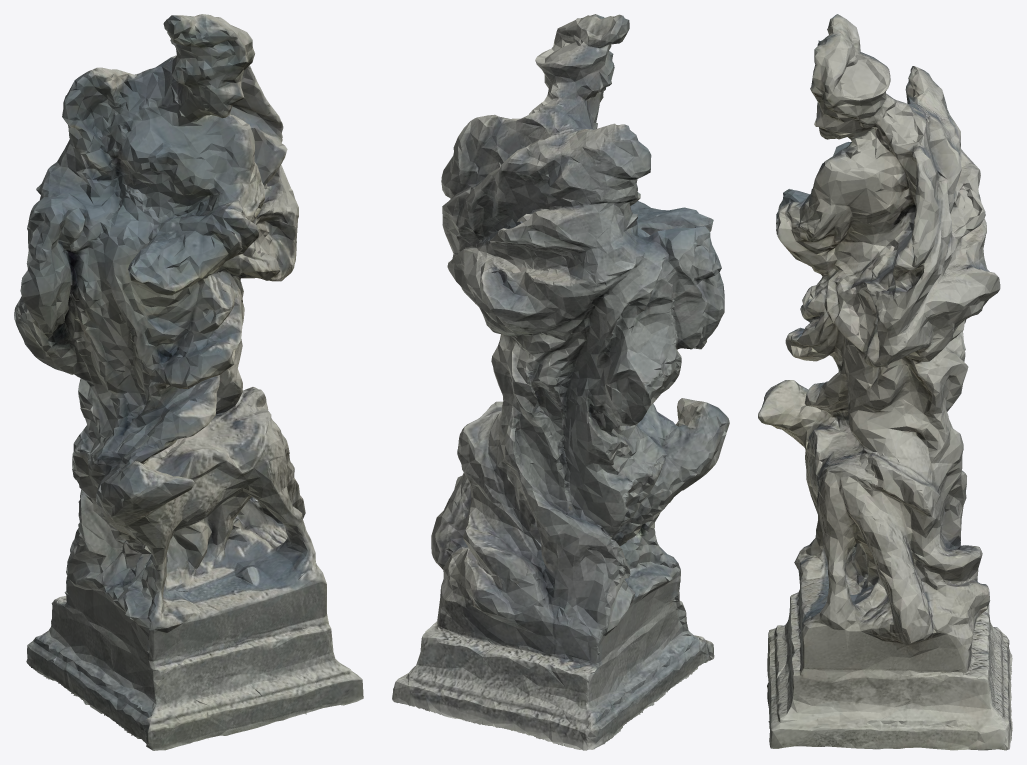
Rendered from lstivost4.glb.
3 views of the same model, side by side, from view 1: azimuth 30°, elevation 25°; view 2: azimuth 150°, elevation 25°; view 3: azimuth 270°, elevation 25° (orthographic). The views are drawn at different scales.
Visible parts, largest first — view 1: Lstivost; view 2: Lstivost; view 3: Lstivost.
Part boxes in pixels (x1,y1,x2,y2): Lstivost: (14,14,363,750); Lstivost: (392,14,729,750); Lstivost: (758,14,1012,750).
Bounding box in the file's own units: 1.22 × 2.74 × 0.9492.
1 material, 1 textured.
